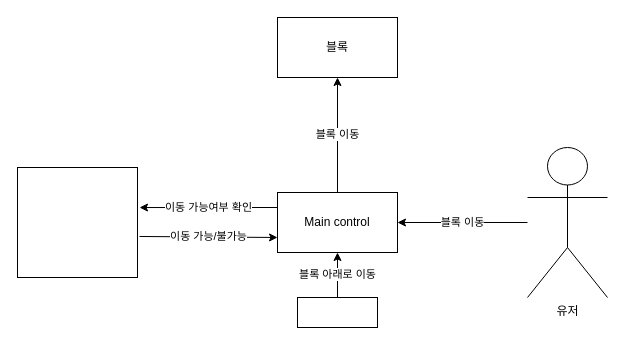
This 625x345 diagram has some shape labels left out. The shapes that lost their labels are listed below. From the top down, each one's centre as x and y in pixels, then its label:
At point 77,222: "게임보드".
At point 337,312: "타이머".
